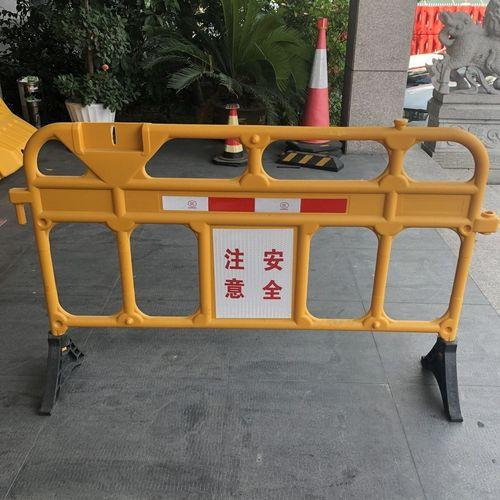sign: (10, 107, 494, 434)
